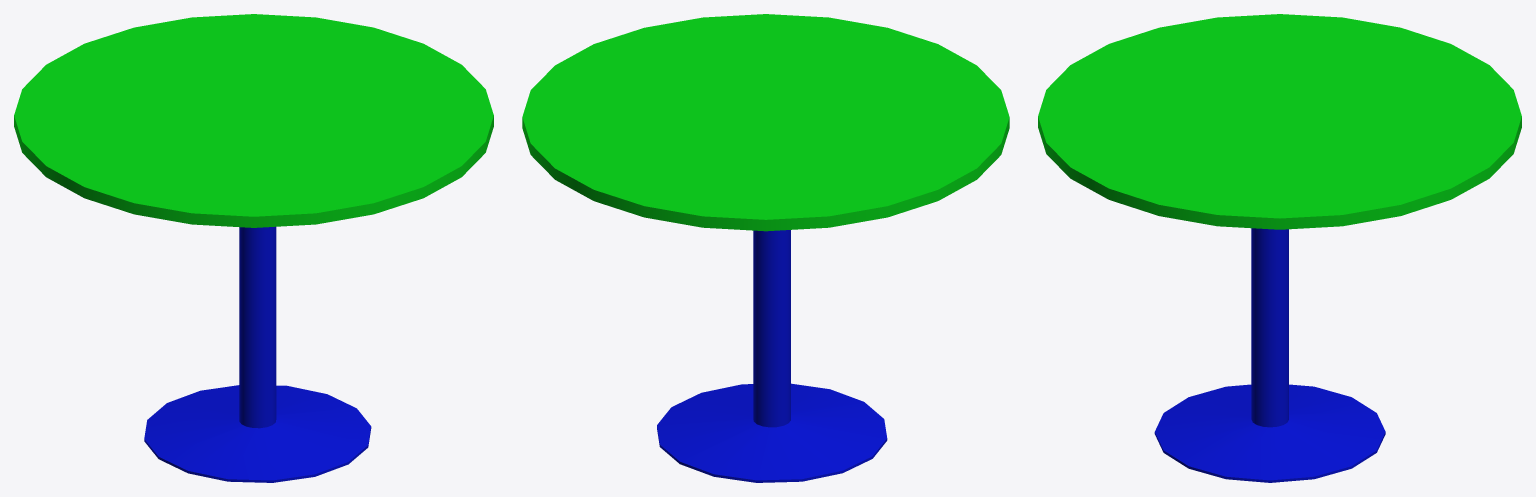
File: Table.fbx
3 renders of one model, left to right at view 1: azimuth 30°, elevation 25°; view 2: azimuth 150°, elevation 25°; view 3: azimuth 270°, elevation 25°, orthographic.
Parts seen in each view (by area): view 1: Table; view 2: Table; view 3: Table.
Boxes of the visible parts, left/top/right/bottom form: Table: left=14, top=14, right=493, bottom=482; Table: left=522, top=14, right=1009, bottom=482; Table: left=1038, top=14, right=1521, bottom=482.
Size of the model in its own units: 1.19 by 0.8627 by 1.19.
